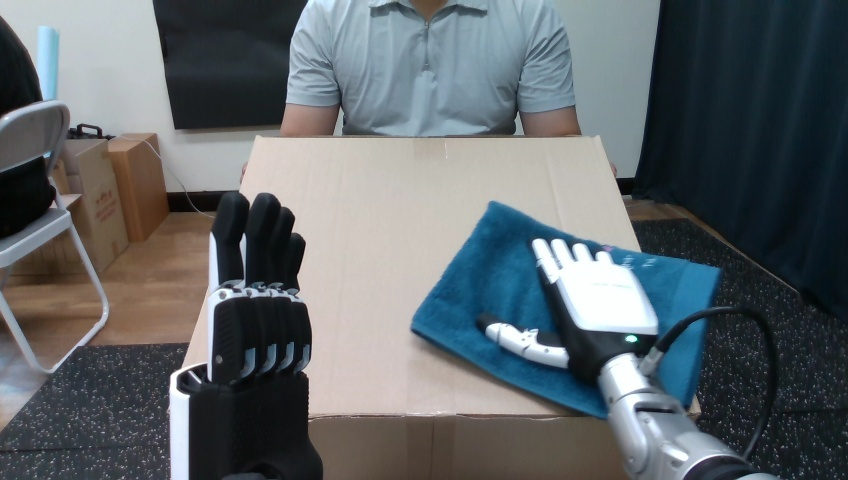left robot hand: (477, 238, 777, 479), (170, 192, 322, 478), (654, 313, 769, 455)
